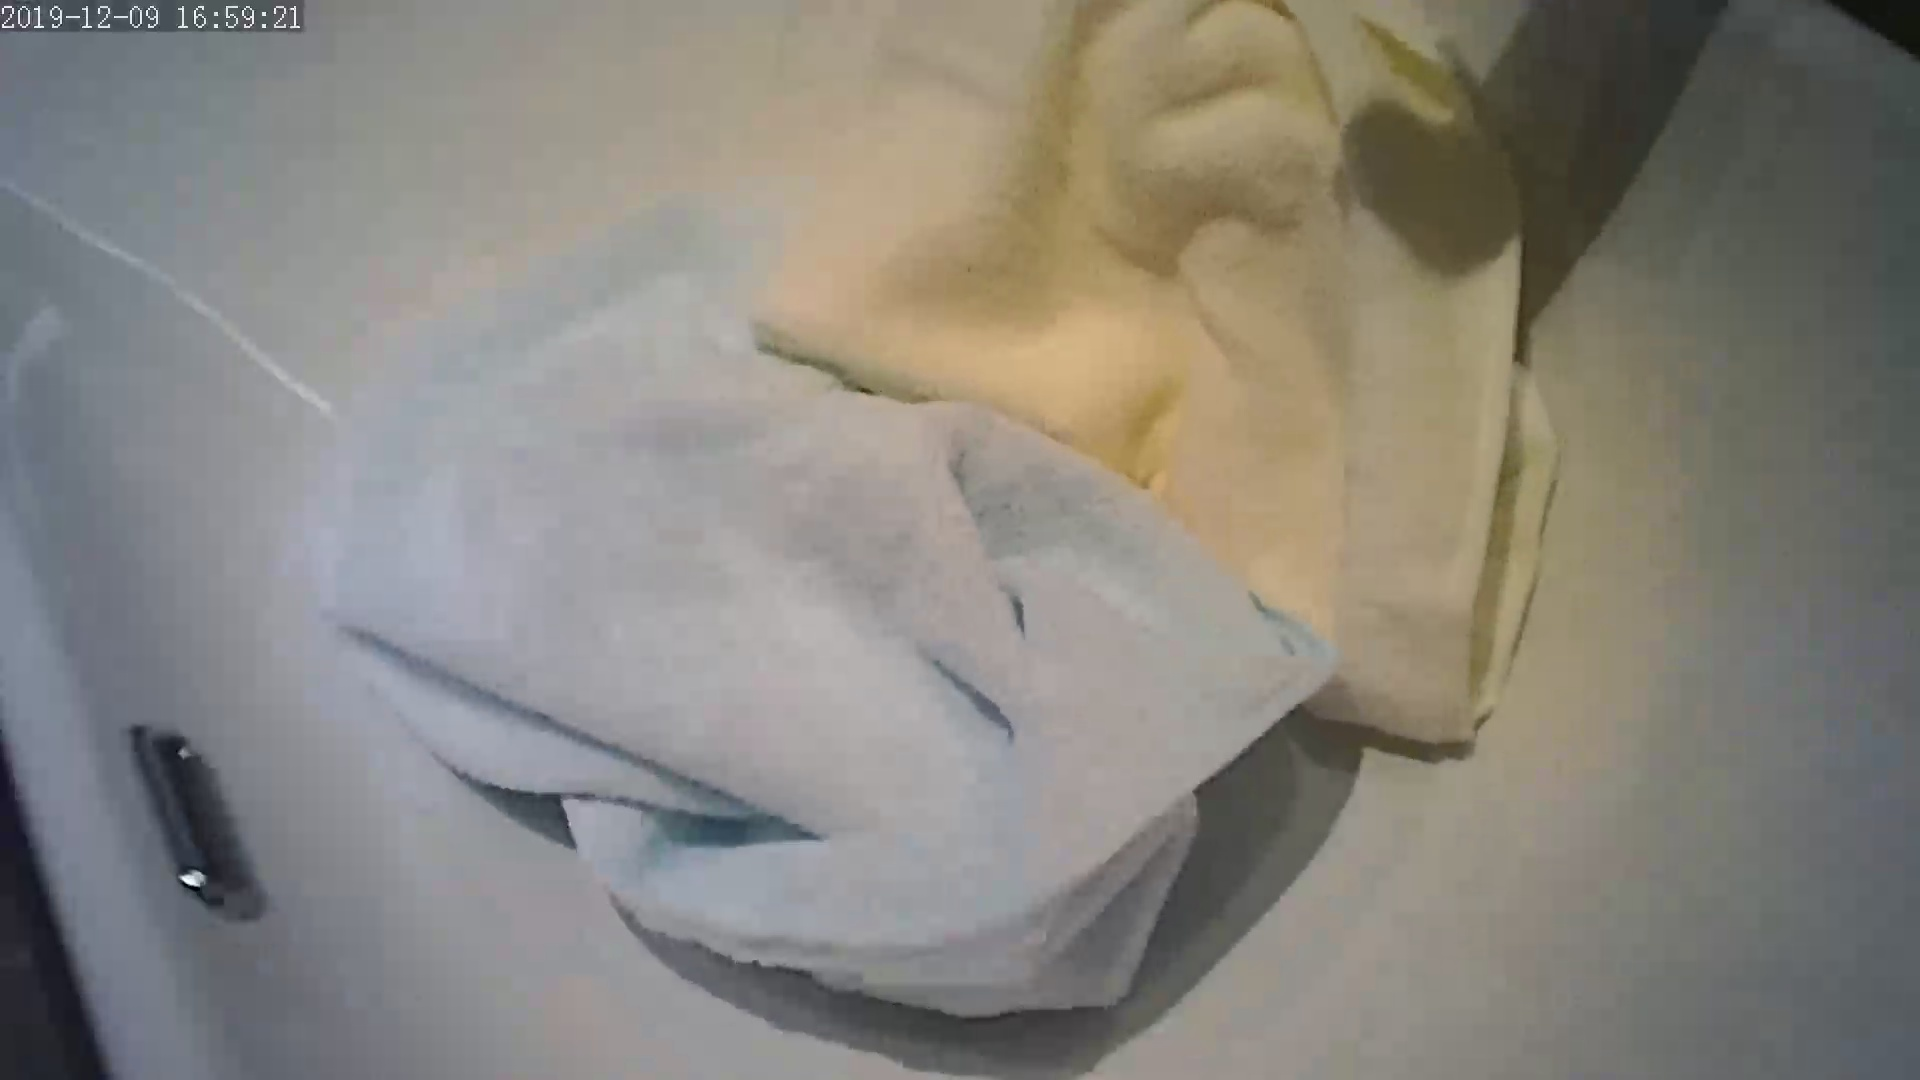person: (102, 4, 1647, 1080)
